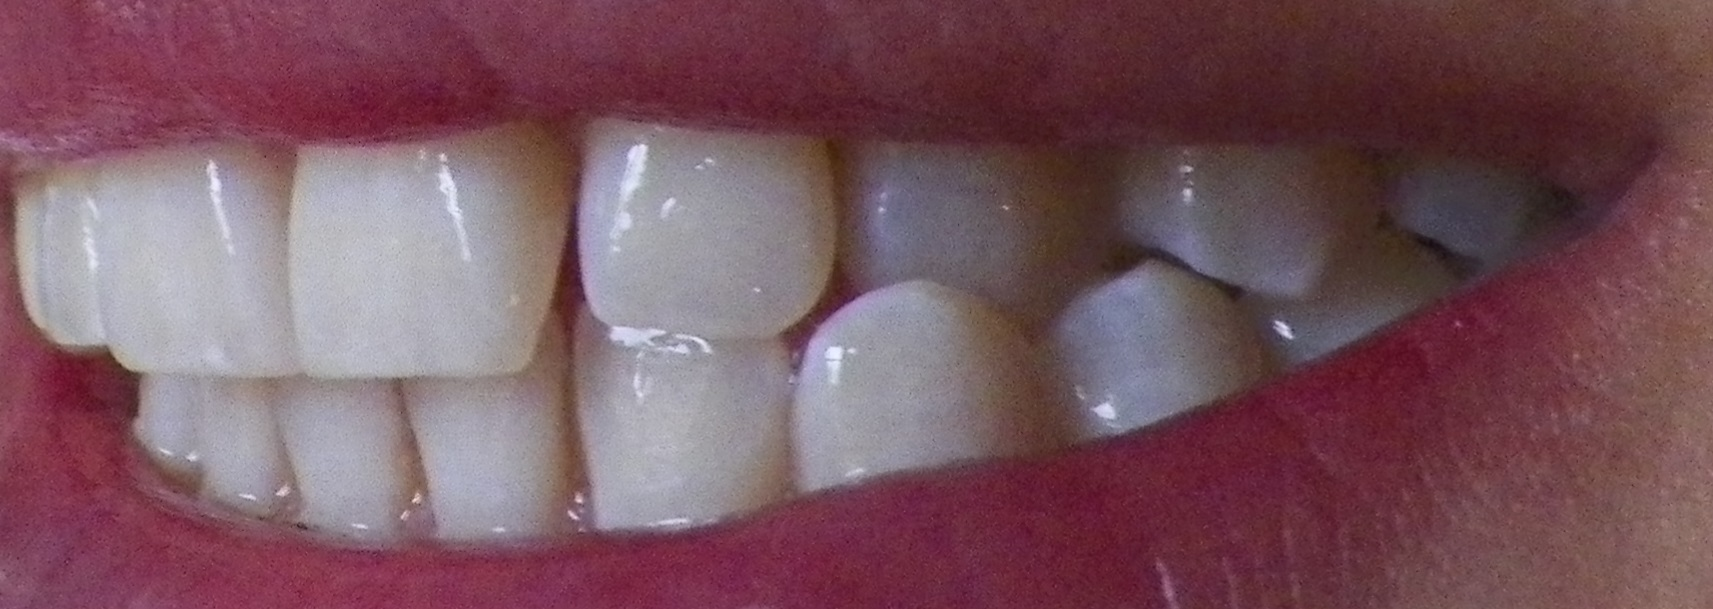boca: (14, 119, 1523, 537)
